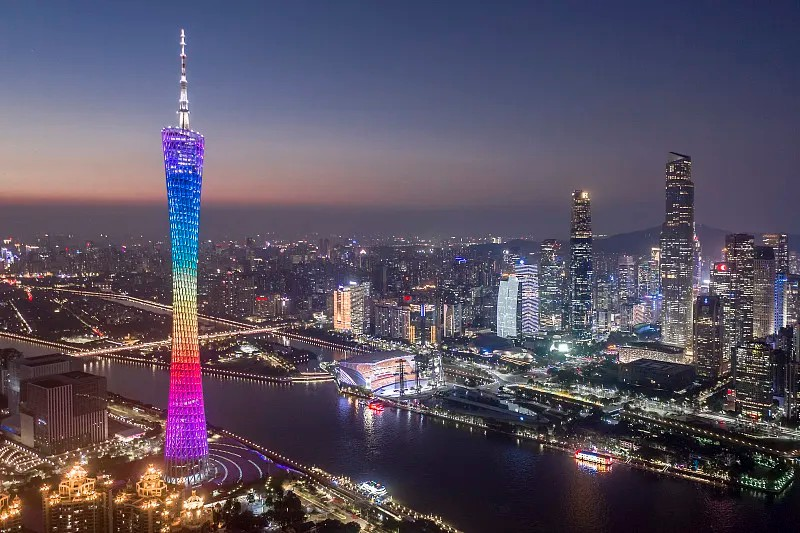Canton: (158, 28, 209, 486)
